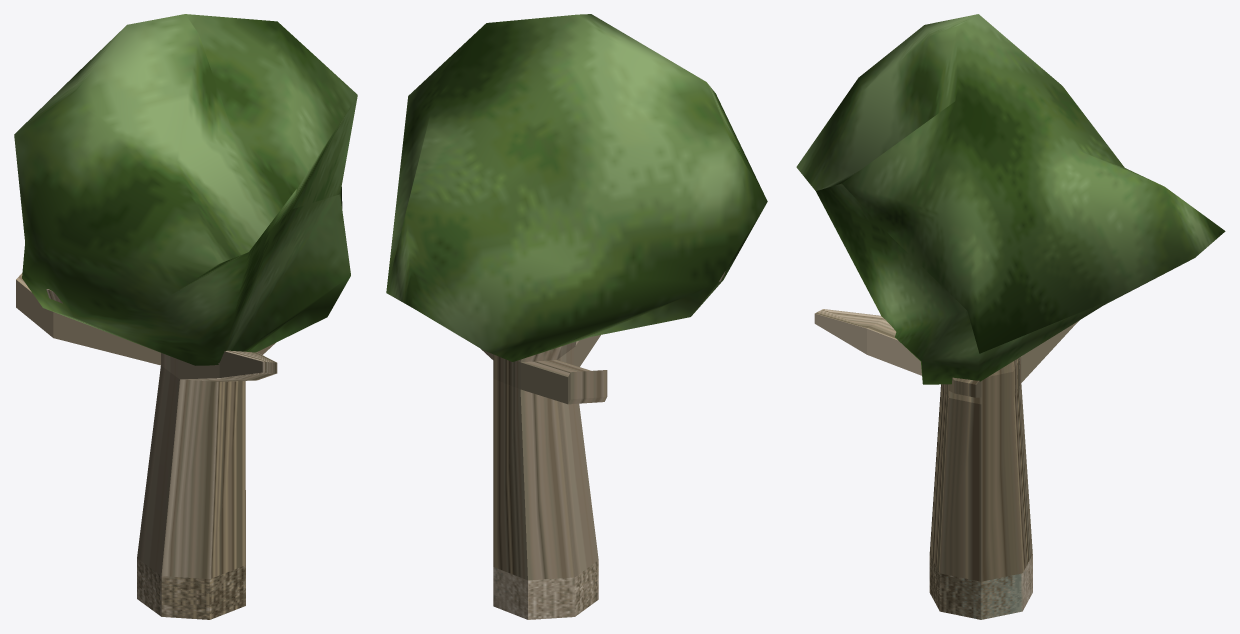
The model's file is tree.fbx.
The picture shows the model from 3 angles, left to right: view 1: azimuth 30°, elevation 25°; view 2: azimuth 150°, elevation 25°; view 3: azimuth 270°, elevation 25°; orthographic projection. The views are drawn at different scales.
Visible parts, largest first — view 1: boulder, pCylinder1; view 2: boulder, pCylinder1; view 3: boulder, pCylinder1.
Boxes of the visible parts, left/top/right/bottom form: boulder: left=14, top=14, right=357, bottom=365; pCylinder1: left=16, top=273, right=277, bottom=619; boulder: left=386, top=14, right=767, bottom=361; pCylinder1: left=481, top=271, right=725, bottom=619; boulder: left=796, top=14, right=1225, bottom=384; pCylinder1: left=814, top=309, right=1079, bottom=619.
Size of the model in its own units: 15.96 by 26.76 by 18.59.
